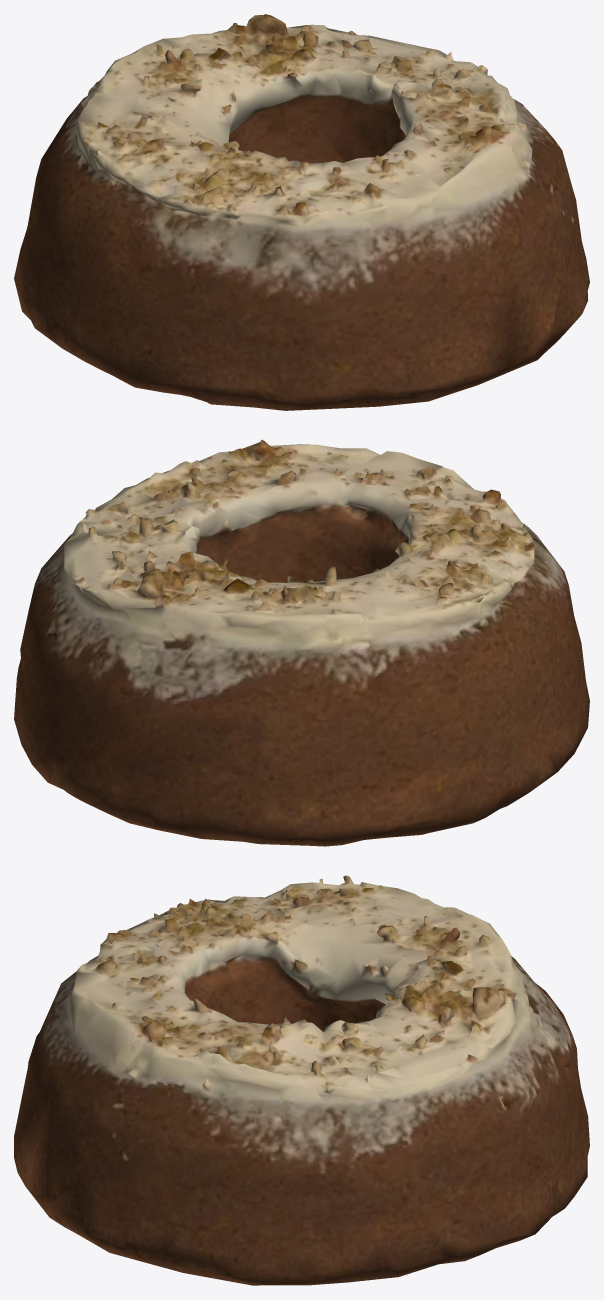
Rendered from carrot_cake.glb.
3 renders of one model, top to bottom at view 1: azimuth 30°, elevation 25°; view 2: azimuth 150°, elevation 25°; view 3: azimuth 270°, elevation 25°, orthographic. The views are drawn at different scales.
Parts seen in each view (by area): view 1: carrot_cake; view 2: carrot_cake; view 3: carrot_cake.
Part boxes in pixels (x1,y1,x2,y2): carrot_cake: (14,14,589,410); carrot_cake: (14,439,589,846); carrot_cake: (14,875,589,1285).
Size of the model in its own units: 0.2254 by 0.0976 by 0.2254.
Materials: 1 (1 with a texture image).
